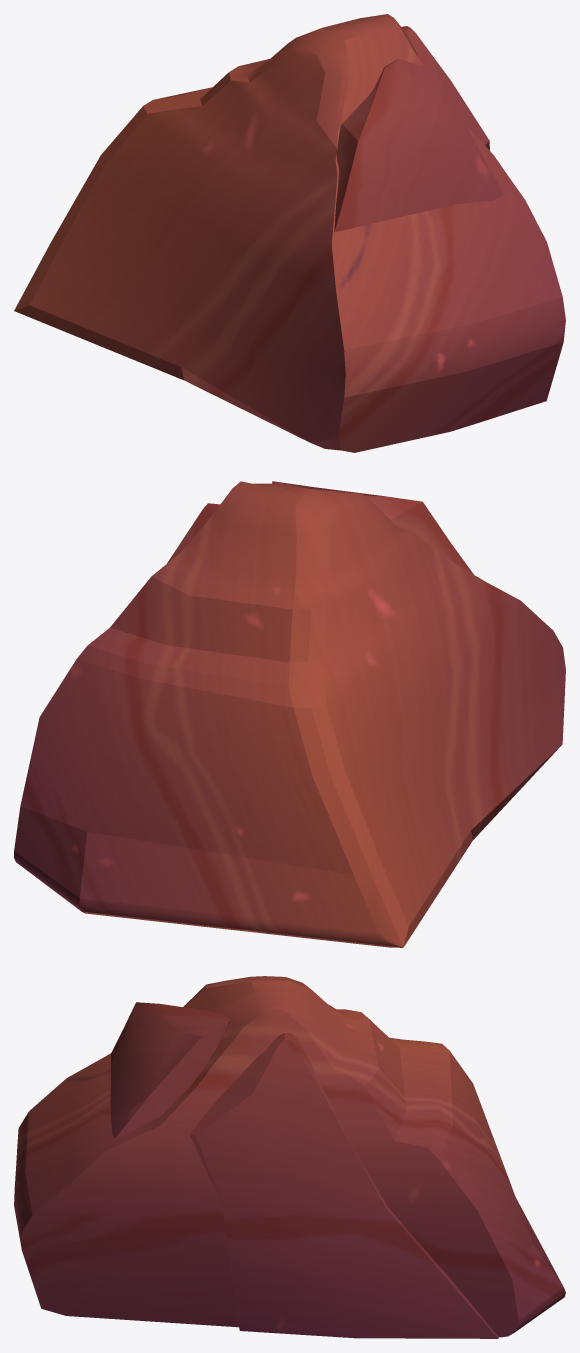
The model's file is SM_Stone_04.fbx.
3 views of the same model, one above another, from view 1: azimuth 30°, elevation 25°; view 2: azimuth 150°, elevation 25°; view 3: azimuth 270°, elevation 25° (orthographic). The views are drawn at different scales.
Visible parts, largest first — view 1: SM_Stone_04; view 2: SM_Stone_04; view 3: SM_Stone_04.
Part boxes in pixels (x1,y1,x2,y2): SM_Stone_04: (14, 14, 565, 452); SM_Stone_04: (14, 481, 565, 947); SM_Stone_04: (14, 976, 565, 1338).
Size of the model in its own units: 799 by 652 by 1101.
